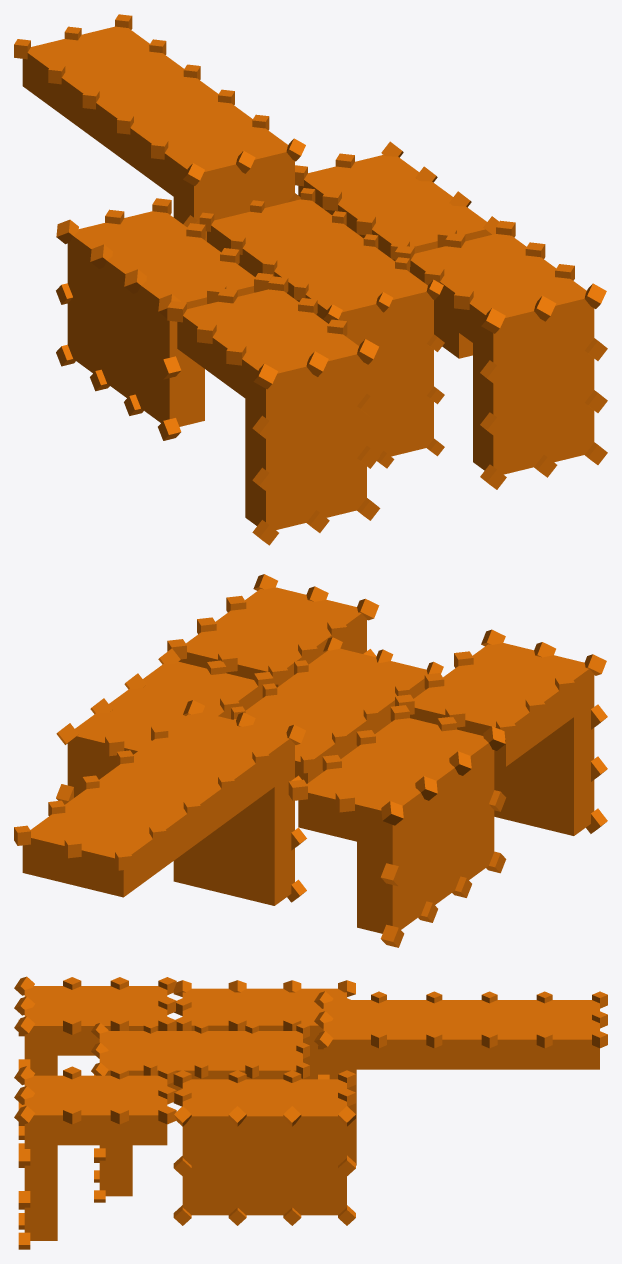
Rendered from Light_tank_Republic.gltf.
3 views of the same model, one above another, from view 1: azimuth 30°, elevation 25°; view 2: azimuth 150°, elevation 25°; view 3: azimuth 270°, elevation 25° (orthographic). The views are drawn at different scales.
Visible parts, largest first — view 1: Cube; view 2: Cube; view 3: Cube.
Boxes of the visible parts, bbox=[...] form: Cube: bbox=[14, 14, 607, 545]; Cube: bbox=[14, 574, 607, 947]; Cube: bbox=[14, 976, 607, 1249].
Size of the model in its own units: 4.92 by 2.91 by 9.01.
